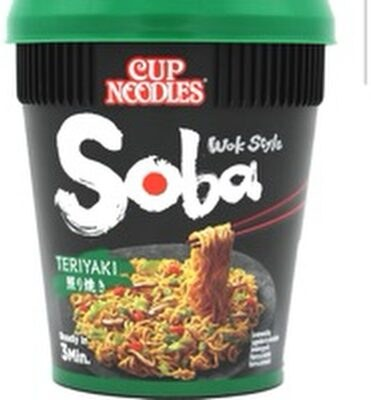Soba Cup Noodles Teriyaki: (19, 20, 352, 380)
